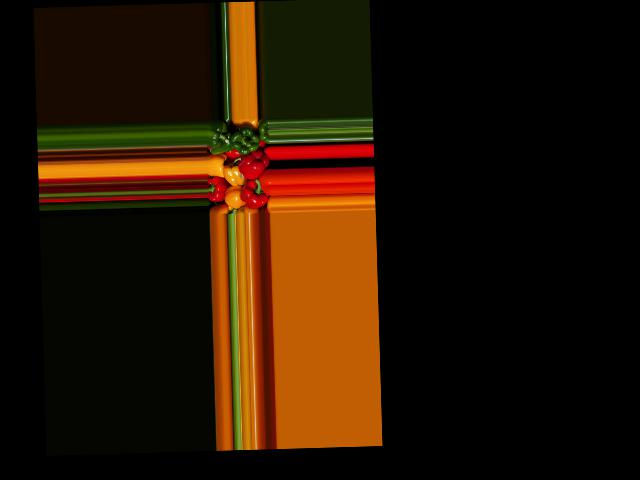bell_pepper: (254, 118, 270, 144)
